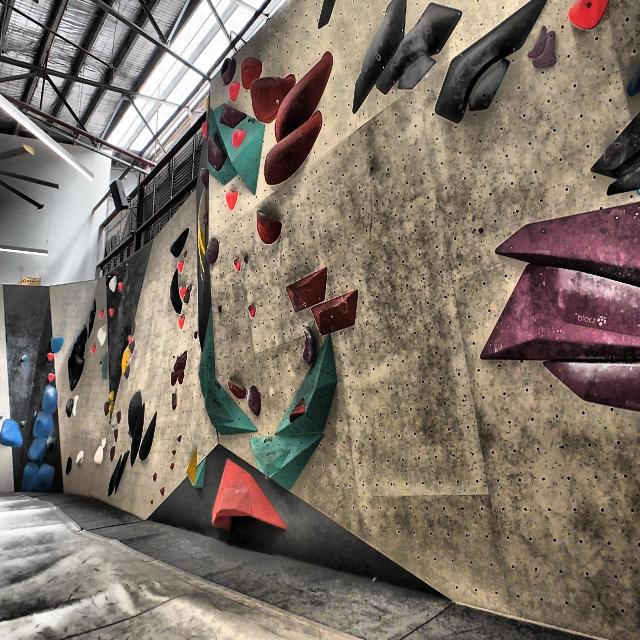Hold: (475, 256, 640, 360), (430, 0, 539, 125), (496, 197, 640, 288), (376, 0, 461, 101), (538, 350, 640, 420), (346, 0, 403, 121), (210, 454, 290, 534), (273, 48, 335, 142), (258, 113, 325, 190), (554, 280, 640, 335), (472, 52, 508, 119), (284, 262, 327, 314), (313, 290, 362, 334), (249, 75, 292, 122), (560, 0, 608, 40), (392, 53, 434, 93), (525, 24, 556, 75), (68, 321, 86, 388), (240, 50, 267, 90), (254, 205, 280, 246), (139, 411, 159, 464), (214, 100, 250, 128), (206, 129, 228, 174), (130, 407, 146, 468), (599, 136, 629, 168), (298, 326, 320, 366), (313, 0, 339, 32), (127, 386, 145, 432), (0, 414, 25, 446), (167, 271, 186, 313), (166, 230, 193, 258), (619, 64, 640, 98), (35, 460, 55, 494), (34, 410, 55, 440), (204, 238, 222, 270), (117, 449, 129, 497), (40, 383, 59, 413), (225, 376, 249, 399), (106, 458, 120, 497), (186, 450, 201, 486), (24, 437, 46, 461), (22, 459, 38, 492), (220, 53, 237, 82), (223, 189, 242, 214), (248, 384, 262, 415), (87, 298, 98, 336), (287, 400, 310, 417), (232, 127, 247, 149), (120, 345, 130, 375), (92, 444, 103, 469), (200, 117, 213, 138), (65, 454, 76, 478), (98, 321, 109, 344), (228, 83, 242, 101), (230, 258, 248, 272), (101, 350, 109, 380), (64, 396, 74, 419), (51, 336, 65, 352), (169, 393, 180, 413), (76, 447, 86, 468), (177, 371, 190, 387), (168, 370, 178, 390), (179, 352, 188, 373), (73, 392, 80, 418), (170, 354, 180, 372), (184, 282, 192, 304), (121, 368, 135, 380), (178, 282, 187, 300), (111, 427, 120, 445), (250, 303, 258, 323), (107, 276, 117, 292), (177, 314, 186, 331), (173, 258, 185, 270), (47, 368, 56, 384), (106, 447, 115, 461), (108, 303, 115, 318), (98, 308, 106, 319), (116, 410, 122, 424), (176, 432, 184, 442), (19, 416, 27, 426), (160, 487, 167, 498), (168, 458, 174, 470), (118, 282, 124, 293), (152, 472, 157, 485), (147, 499, 155, 507), (172, 447, 179, 456), (90, 344, 96, 354), (48, 350, 54, 360), (102, 435, 106, 448), (22, 353, 26, 363)
